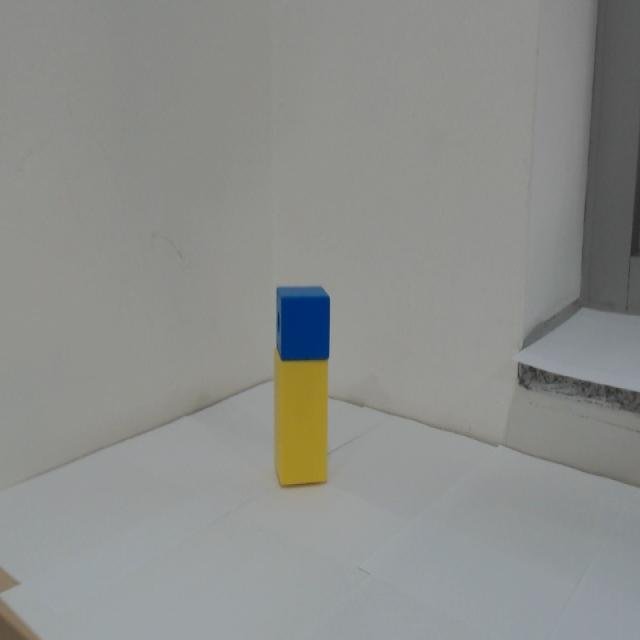cube: (274, 283, 331, 363)
